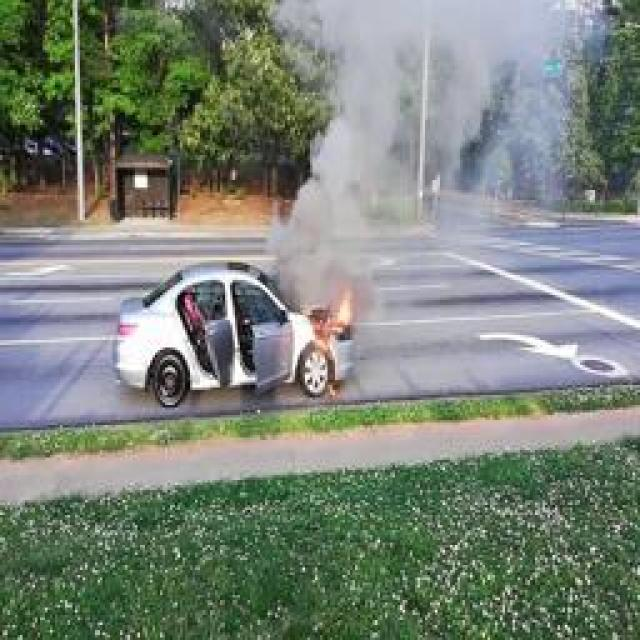Fire: (316, 288, 362, 348)
Smoke: (287, 15, 588, 203)
